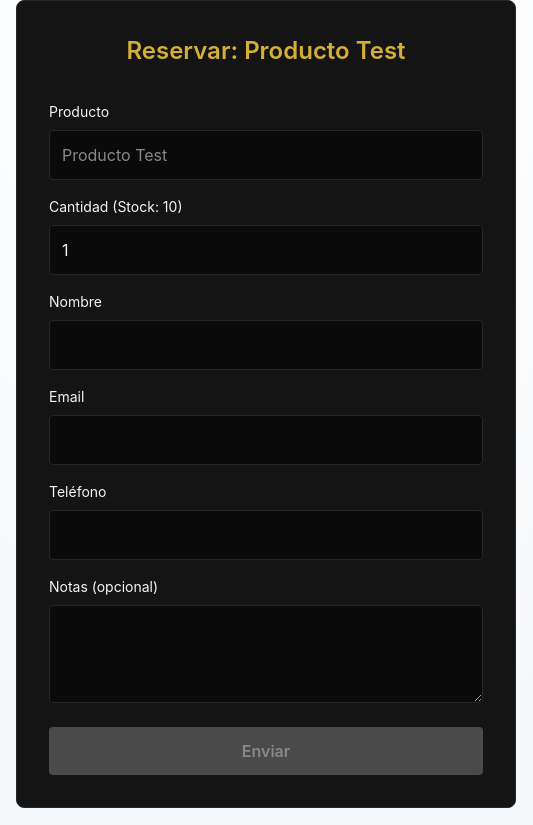
Scenario: ReservationForm Component › Submit Button › should be enabled when all required fields are filled
Fill all required fields
Type "Juan Pérez" into the field labelled "Nombre" at (266,345), box [49,320,483,370]
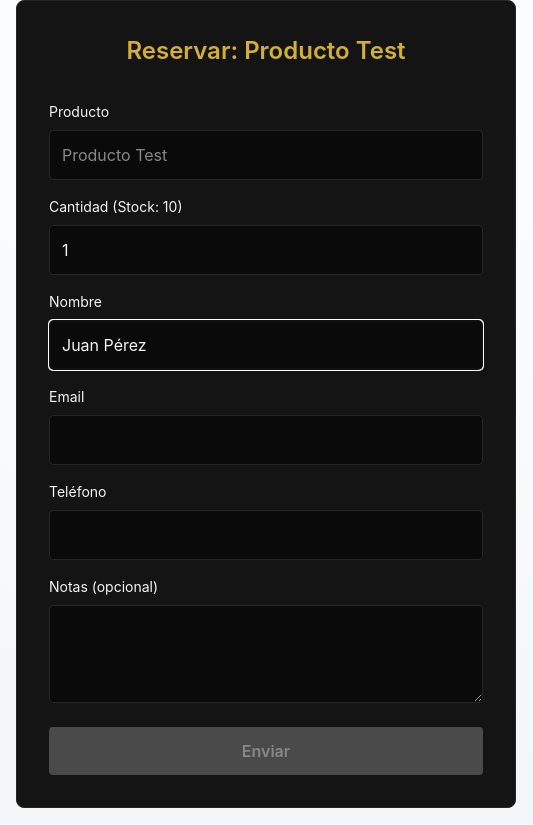
Type "juan@example.com" into the field labelled "Email" at (266,440), box [49,415,483,465]
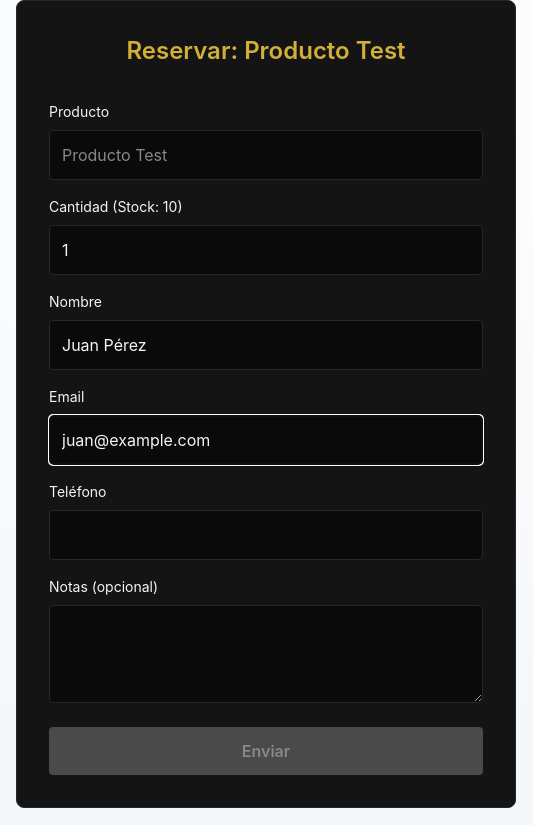
Type "12345678901234" into the field labelled "Teléfono" at (266,535), box [49,510,483,560]
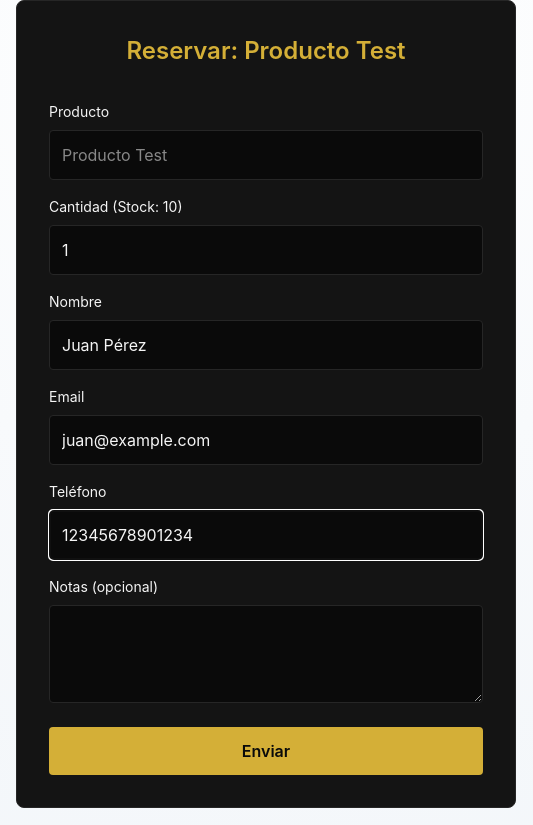
Expected: the button "Enviar" is enabled, [49,727,483,775]
